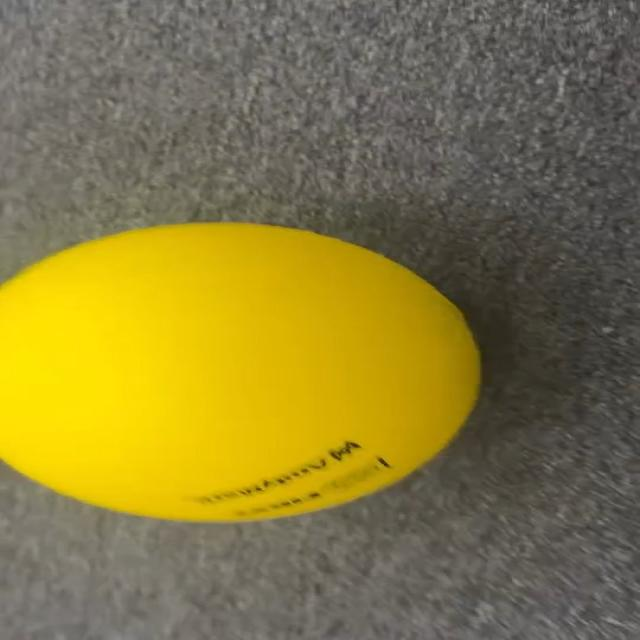Fuels: (4, 225, 483, 518)
